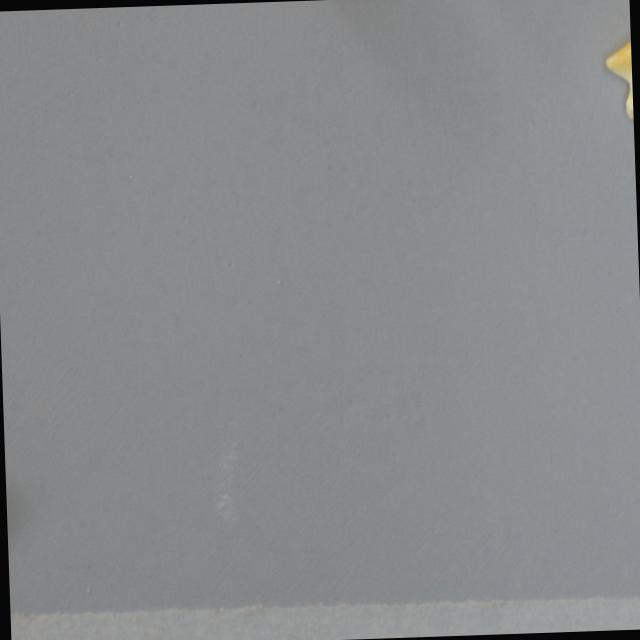pelicula: (603, 25, 633, 120)
